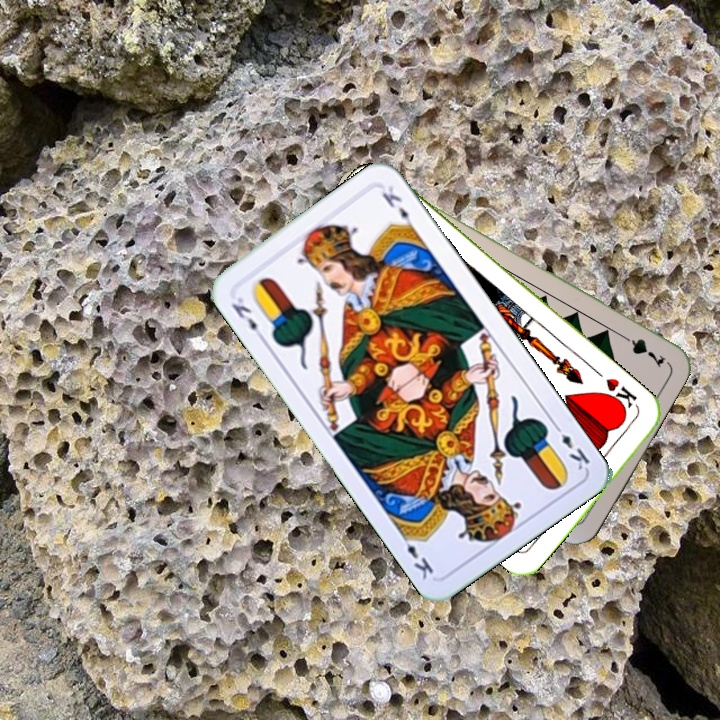EK: (549, 419, 592, 473), (227, 292, 268, 344)
G7: (614, 328, 668, 370)
HK: (599, 373, 640, 415)
